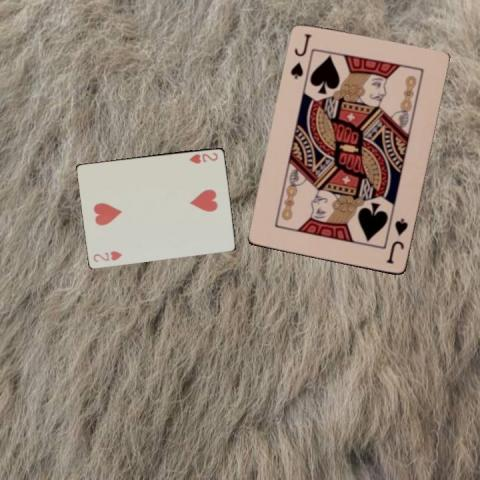2h: (90, 248, 124, 264), (187, 149, 219, 165)
Js: (384, 216, 410, 266), (288, 30, 314, 80)
